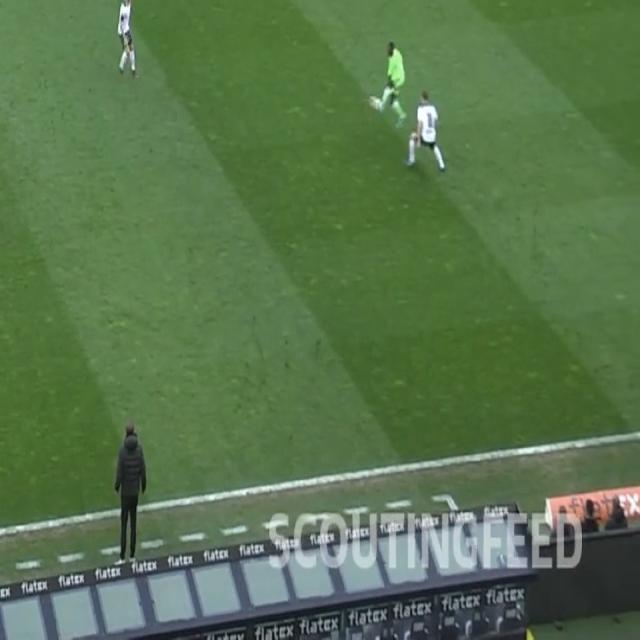ball: (366, 94, 382, 112)
